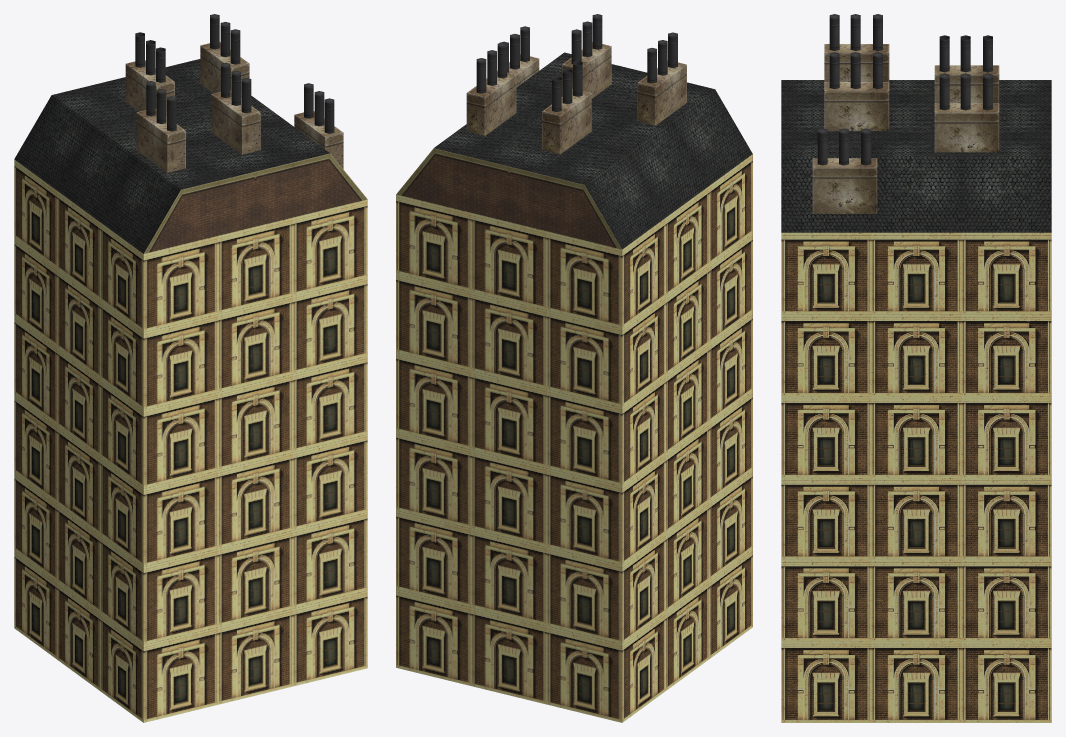
File: Building4.FBX
The picture shows the model from 3 angles, left to right: view 1: azimuth 30°, elevation 25°; view 2: azimuth 150°, elevation 25°; view 3: azimuth 270°, elevation 25°; orthographic projection. The views are drawn at different scales.
Visible parts, largest first — view 1: Building4; view 2: Building4; view 3: Building4.
Boxes of the visible parts, <box> form: Building4: <box>14,14,367,722</box>; Building4: <box>396,14,752,722</box>; Building4: <box>781,14,1051,722</box>.
Bounding box in the file's own units: 1200 × 3033 × 1200.
